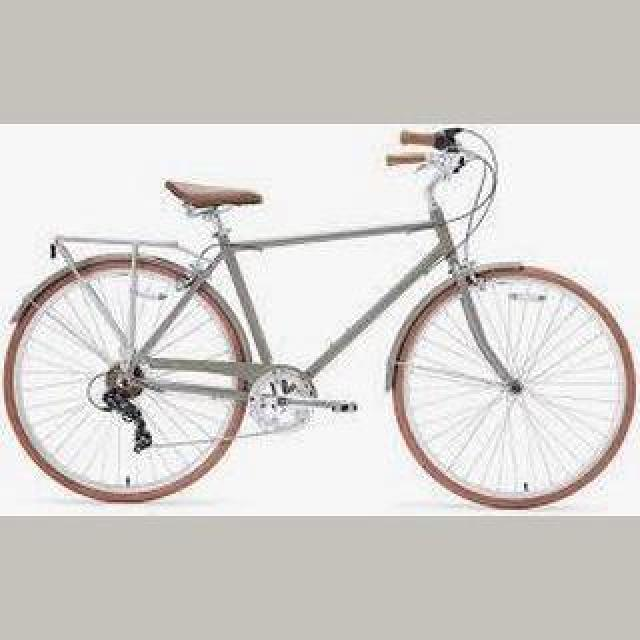Person: (16, 139, 636, 503)
